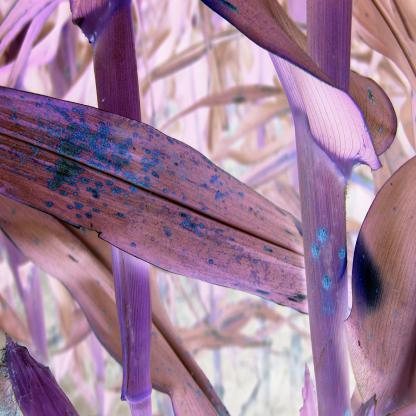corn rust leaf: (1, 84, 416, 333)
